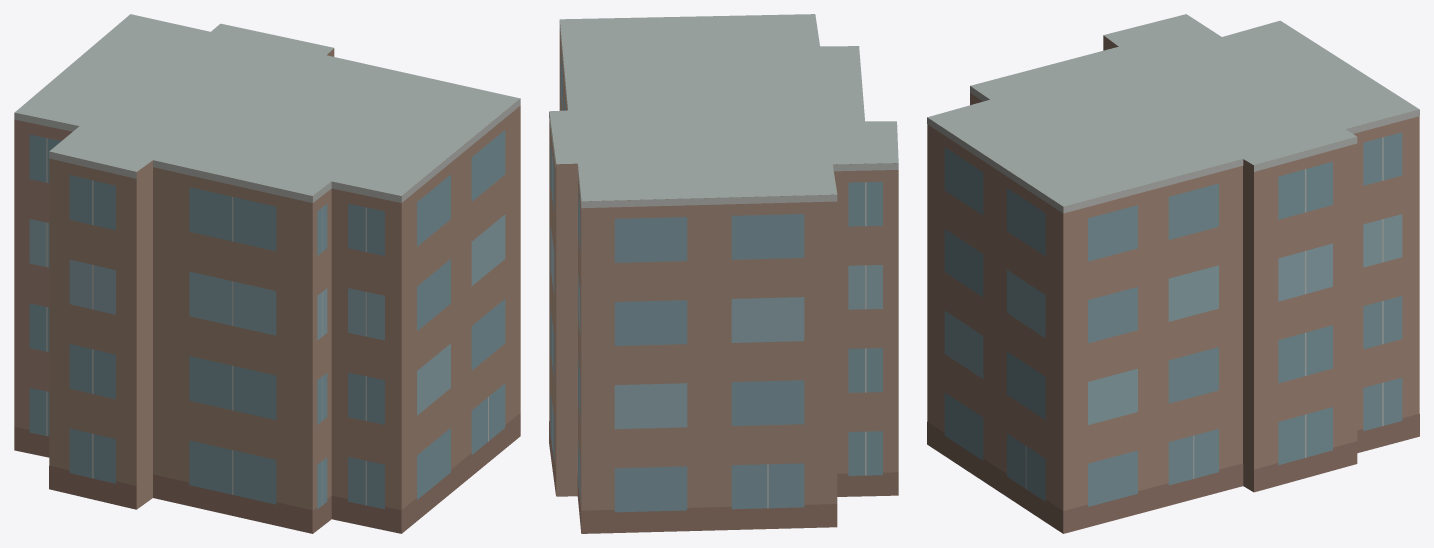
File: survey-upis-32994772.glb
3 views of the same model, side by side, from view 1: azimuth 30°, elevation 25°; view 2: azimuth 150°, elevation 25°; view 3: azimuth 270°, elevation 25° (orthographic). The views are drawn at different scales.
Parts seen in each view (by area): view 1: survey-upis-32994772.tmp; view 2: survey-upis-32994772.tmp; view 3: survey-upis-32994772.tmp.
Part boxes in pixels (x1,y1,x2,y2): survey-upis-32994772.tmp: (14,14,520,533); survey-upis-32994772.tmp: (549,14,898,533); survey-upis-32994772.tmp: (927,14,1419,533).
Size of the model in its own units: 14.92 by 11.8 by 16.11.
